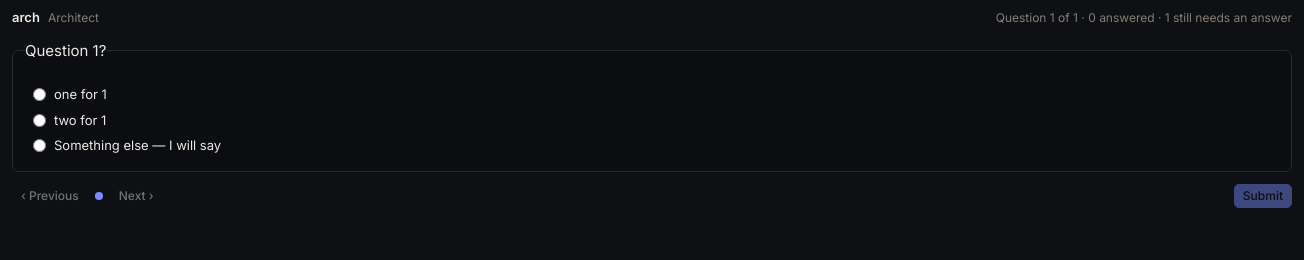
it: the discussion question block › DQA-FR-JJON: no note is offered until a recorded option is selected
The width and height of the screenshot is (1304, 260).
Step 1. Click the radio button labelled "one for 1" → (40, 95), box top-left (33, 88), bottom-right (46, 101)
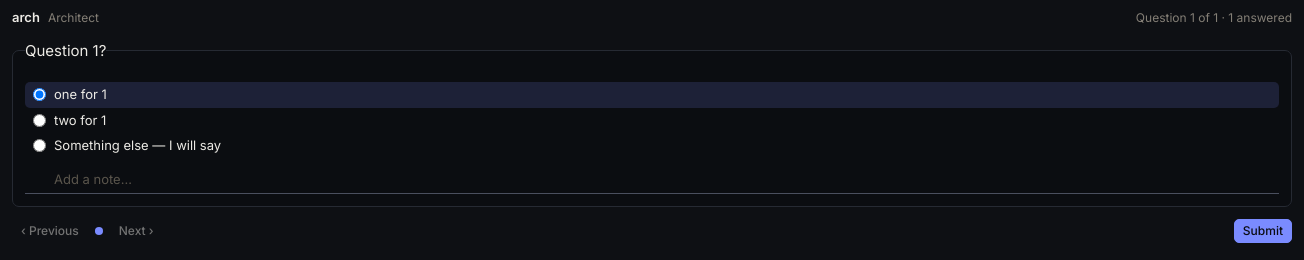
Expected: the text box with test id "discussion-questions-note" is shown, top-left (25, 166), bottom-right (1279, 194)
